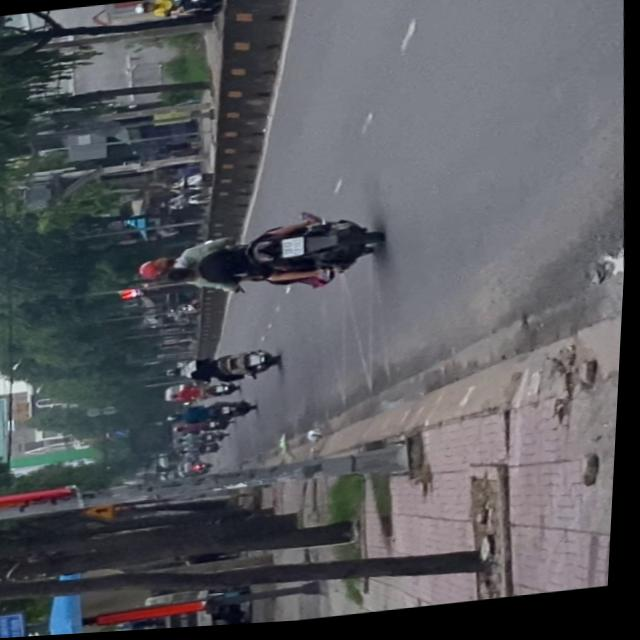helmet: (139, 258, 177, 282)
licenseplate: (136, 211, 388, 309)
motorcyclist: (165, 267, 201, 287)
nohelmet: (284, 241, 307, 261)
